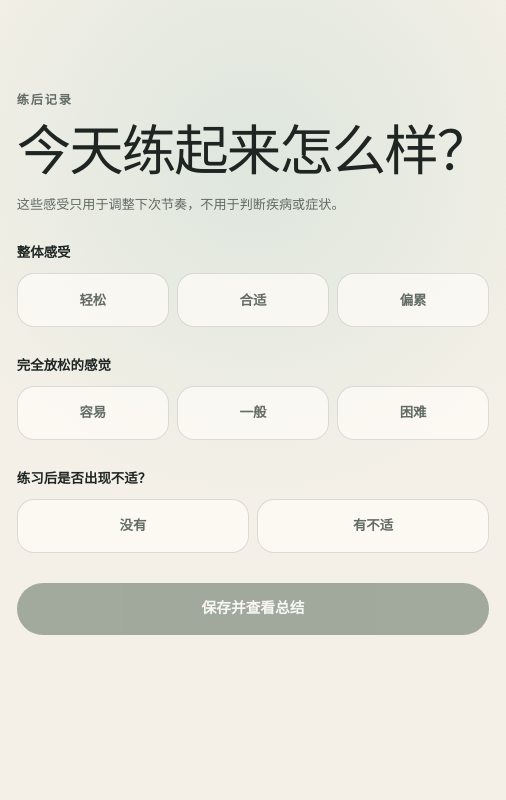
saves a completed pelvic_floor timer session and shows its summary when randomUUID is unavailable
Step 1. Click the button "合适" → (253, 300), box top-left (177, 273), bottom-right (329, 327)
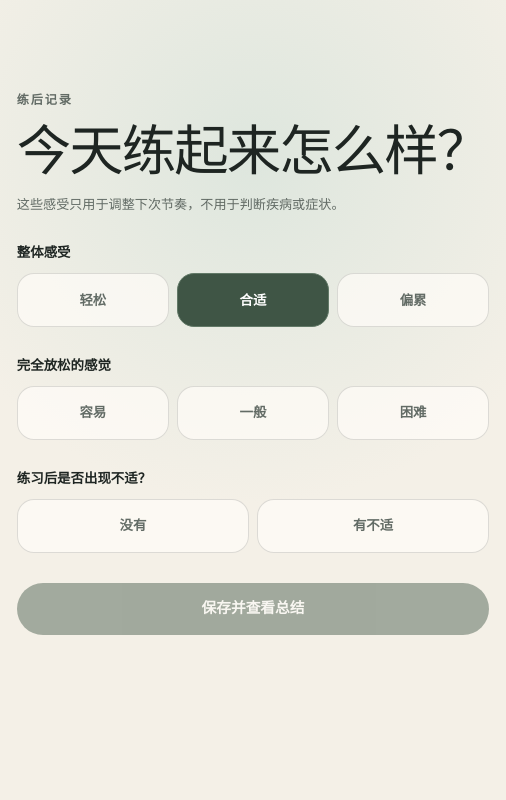
Step 2. Click the button "容易" → (93, 413), box top-left (17, 386), bottom-right (169, 440)
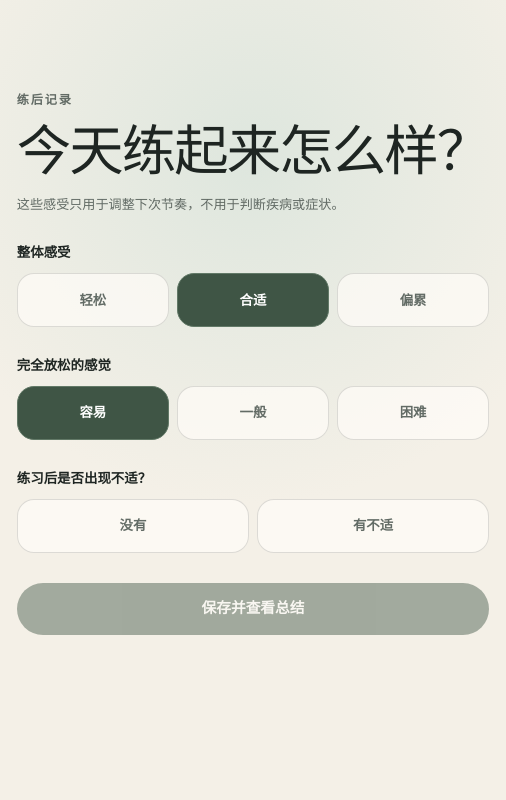
Step 3. Click the button "没有" → (133, 526), box top-left (17, 499), bottom-right (249, 553)
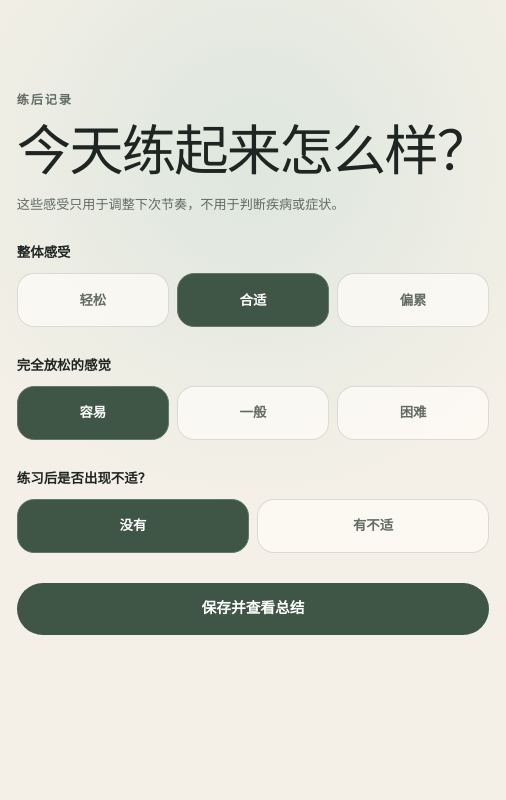
Step 4. Click the button "保存并查看总结" → (253, 609), box top-left (17, 583), bottom-right (489, 635)
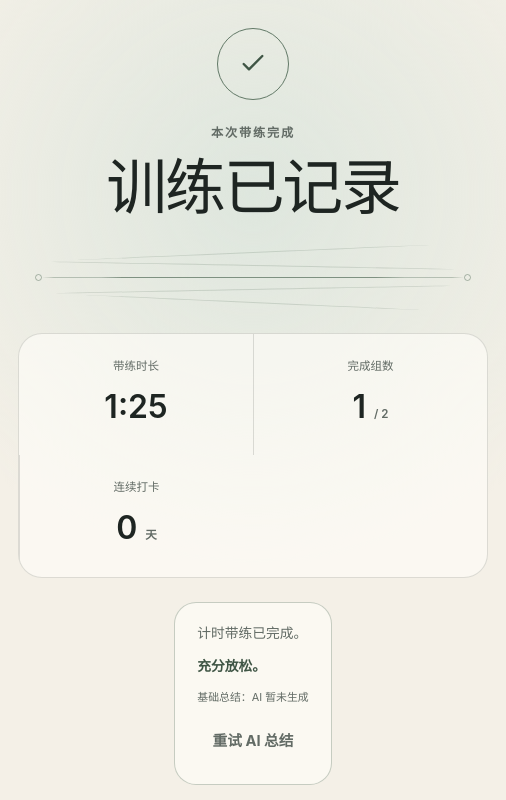
Expected: the heading "训练已记录" is shown, top-left (106, 153), bottom-right (400, 223)
